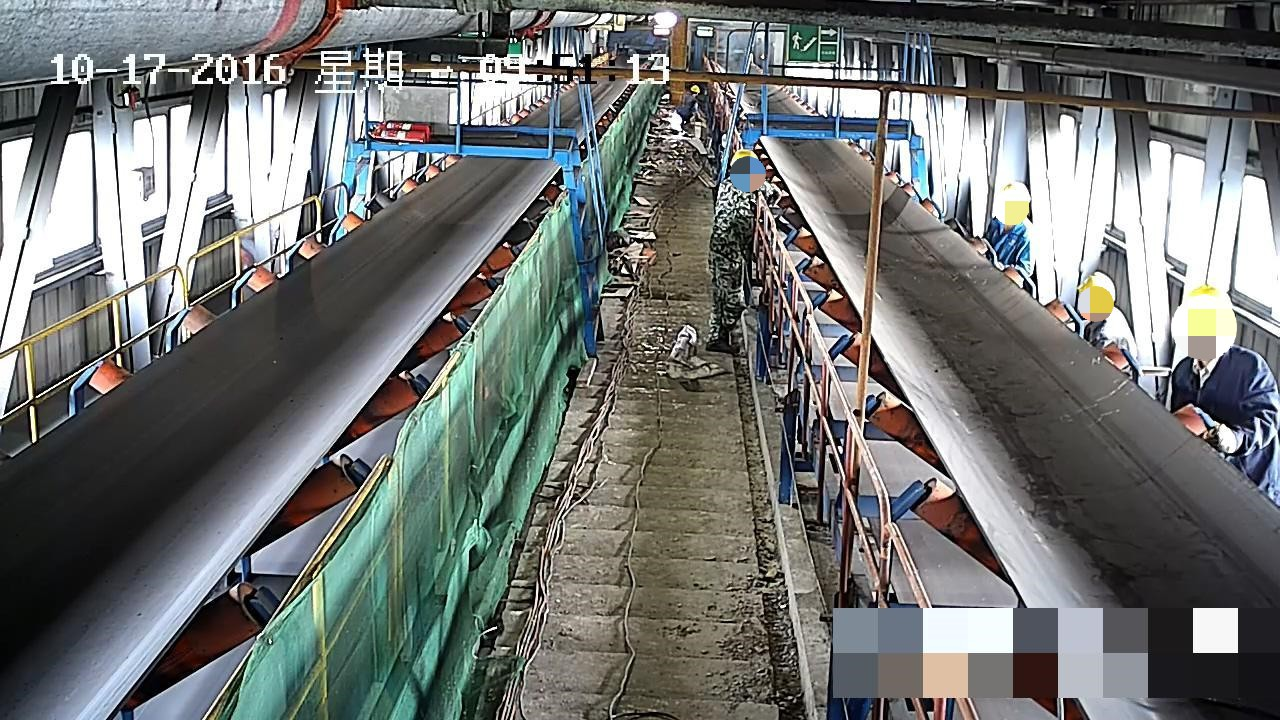hat: (1179, 286, 1234, 357), (1078, 272, 1117, 316), (998, 182, 1032, 221), (728, 148, 760, 181)
person: (1168, 282, 1280, 510), (706, 146, 777, 356), (1077, 271, 1141, 385), (982, 183, 1037, 297), (676, 85, 701, 128)
